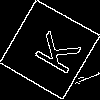K: (25, 24, 82, 77)
